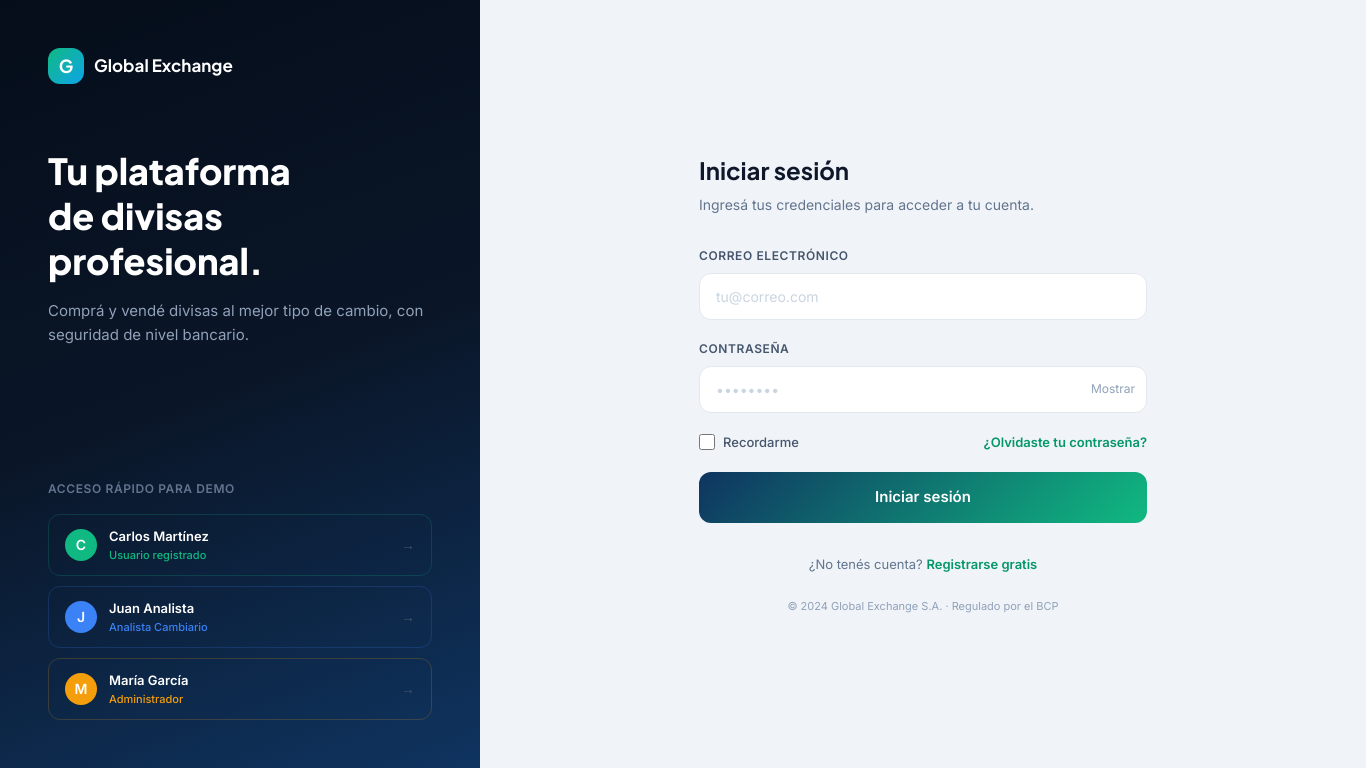
it: Login (autenticación y login para todos los roles) › muestra error al enviar el formulario vacío
Click the button "Iniciar sesión": x=923, y=497 [699,472,1147,522]
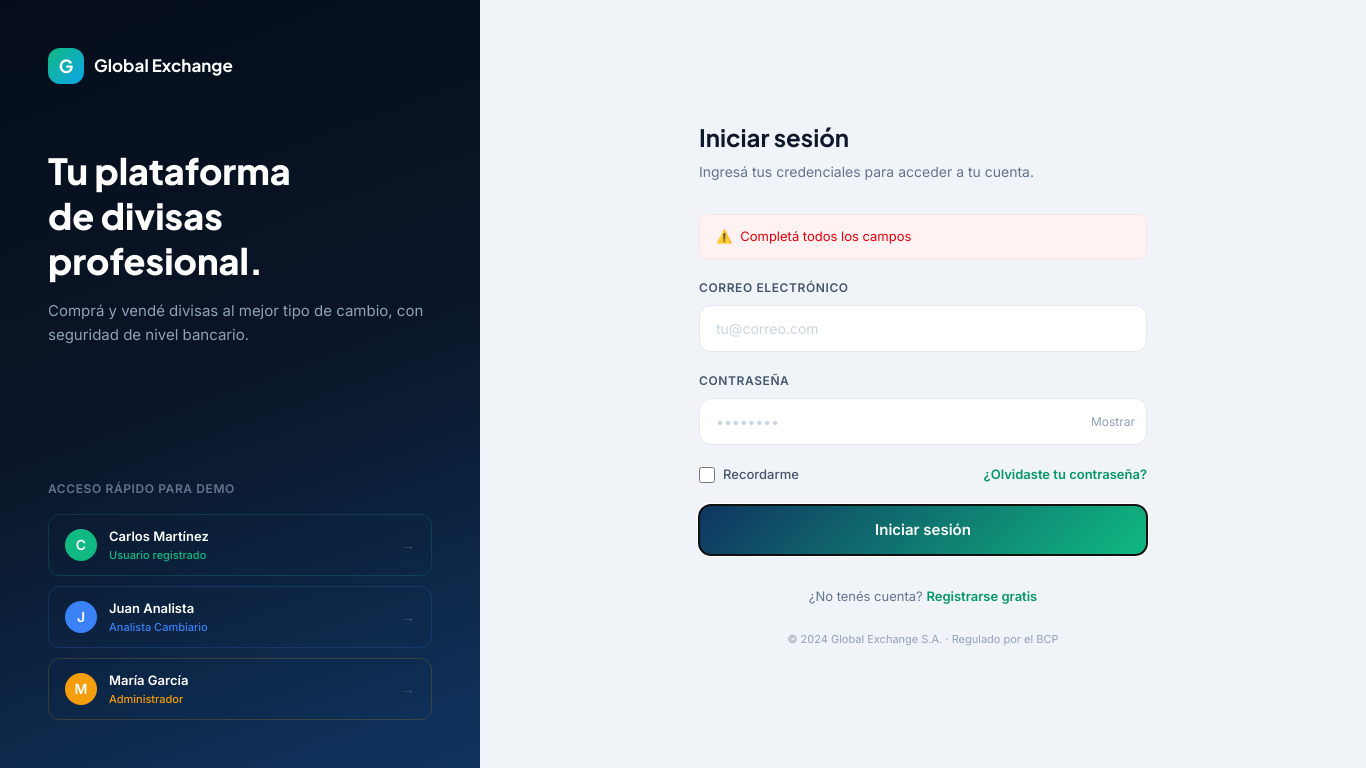
Check: the field labelled "Correo electrónico" is empty, box [699,305,1147,352]
Check: the text "Completá todos los campos" is shown, box [740,228,911,244]
